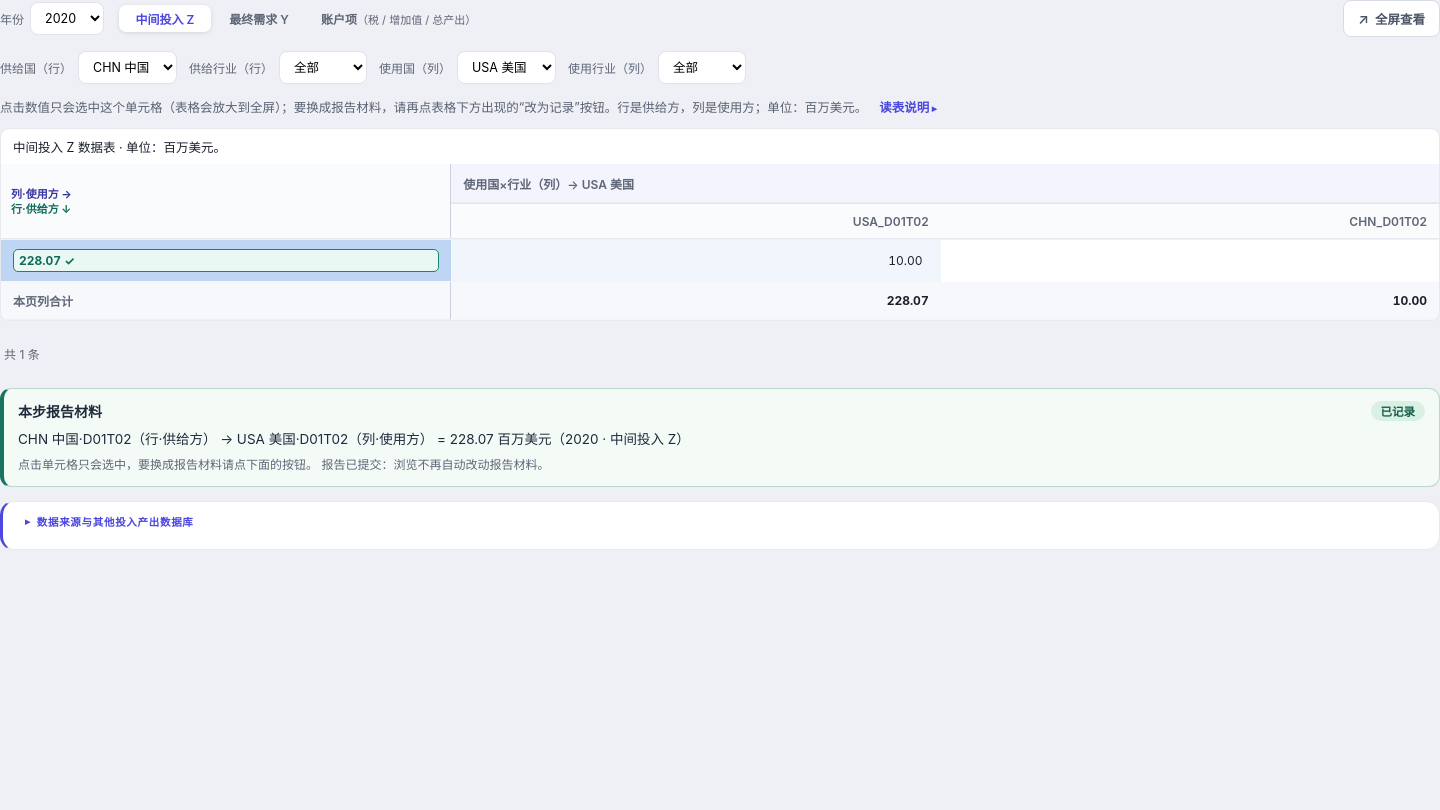
Test: step 1 after the report is submitted › a click only marks the cell; the material changes when the student asks
Click the button "10.00". click: (905, 260)
box: [463,249,929,272]
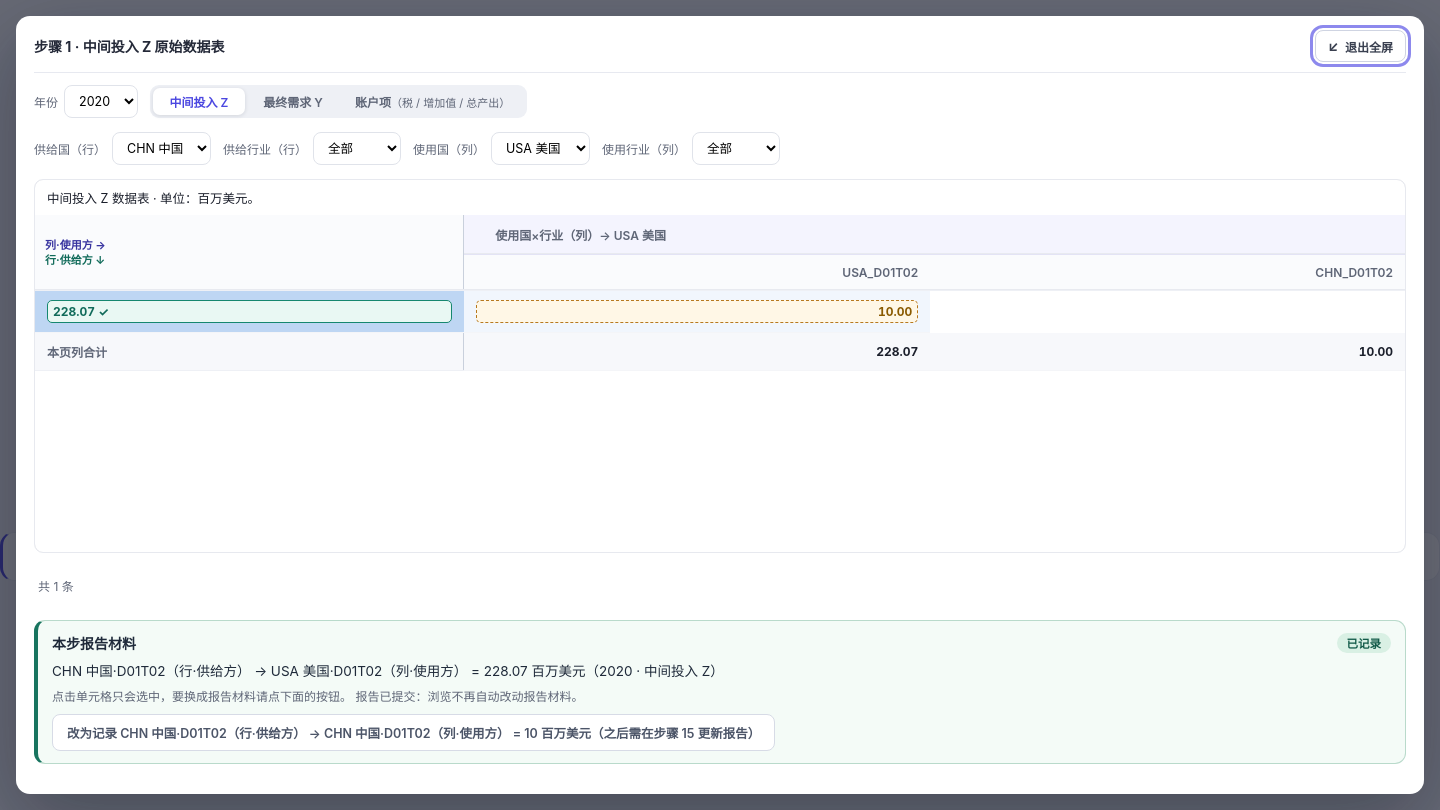
Check: the text "点击单元格只会选中，要换成报告材料请点下面的按钮。 报告已提交：浏览不再自动改动报告材料。" is shown, box [52,689,583,704]
Check: the button "10.00" has class "picked", box [476,300,918,323]
Click the 7th button. click: (414, 732)
box: [52,714,775,751]
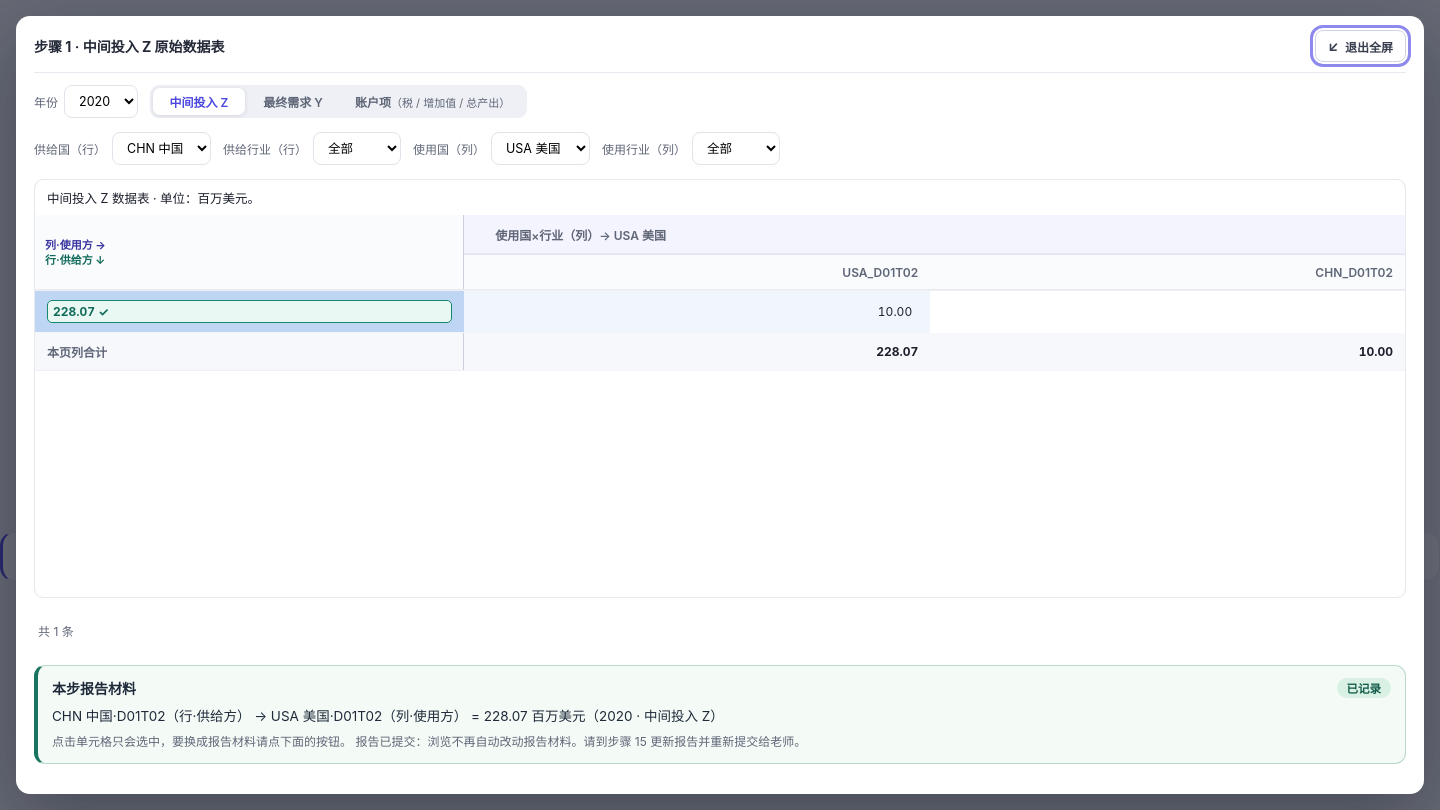
Check: the column heading "CHN_D01T02" is shown, box [930,255,1405,291]
Check: the text "请到步骤 15 更新报告并重新提交给老师。" is shown, box [583,734,806,749]
Check: the button "改为记录 CHN 中国·D01T02（行·供给方） → CHN 中国·D01T02（列·使用方） = 10 百万美元（之后需在步骤 15 更新报告）" is gone
